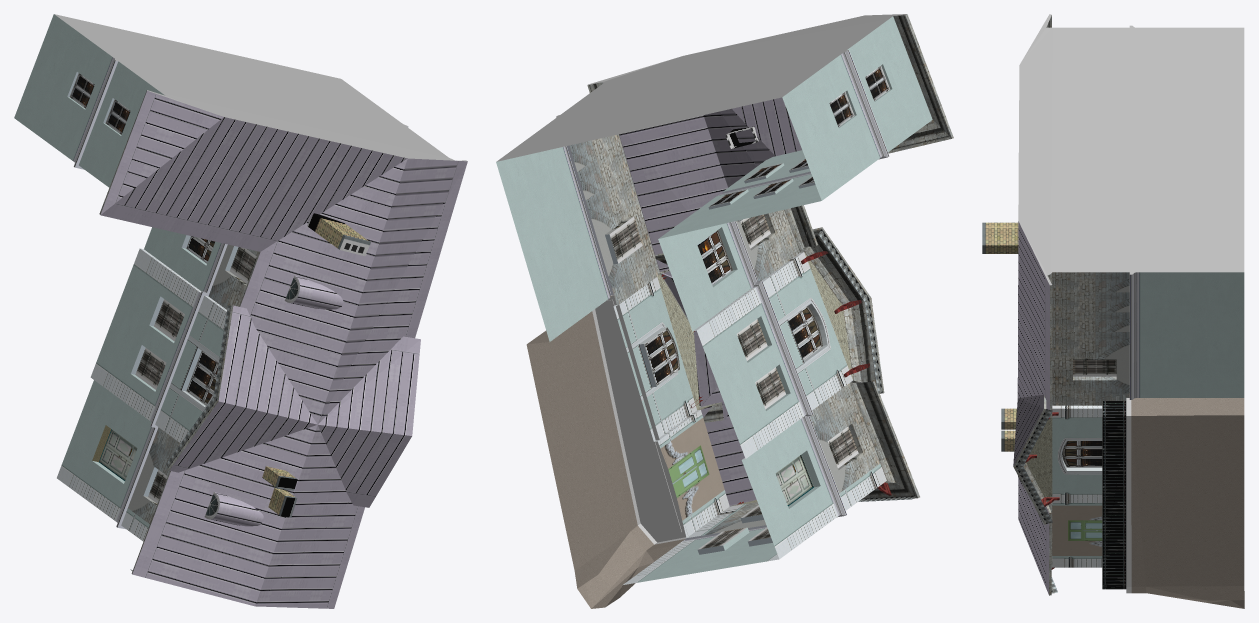
File: Olivemagi_tn_11_IIV.obj
The picture shows the model from 3 angles, left to right: view 1: azimuth 30°, elevation 25°; view 2: azimuth 150°, elevation 25°; view 3: azimuth 270°, elevation 25°; orthographic projection. The views are drawn at different scales.
Visible parts, largest first — view 1: Olevimagi_tn_11_IIV; view 2: Olevimagi_tn_11_IIV; view 3: Olevimagi_tn_11_IIV.
Part boxes in pixels (x1,y1,x2,y2): Olevimagi_tn_11_IIV: (14, 14, 467, 608); Olevimagi_tn_11_IIV: (496, 14, 953, 608); Olevimagi_tn_11_IIV: (982, 14, 1244, 608).
Size of the model in its own units: 17.17 by 25.36 by 11.94.
